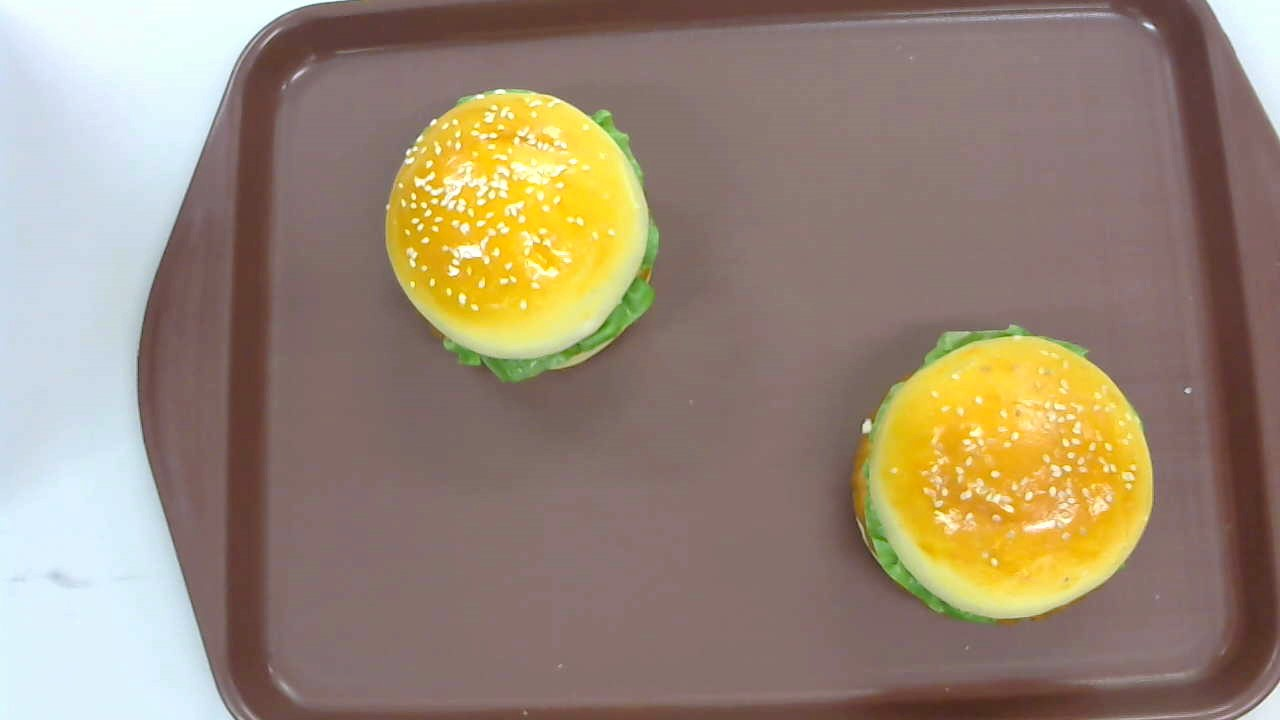hamburger: (850, 322, 1153, 624), (383, 86, 662, 382)
